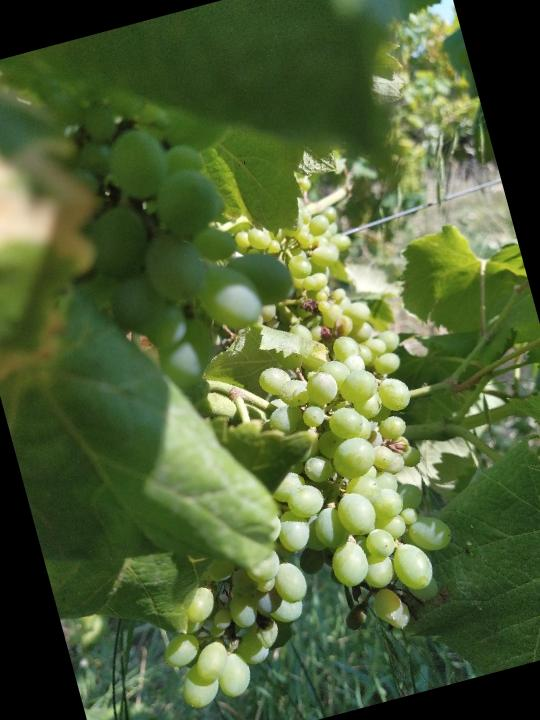grape: (86, 292, 482, 719)
